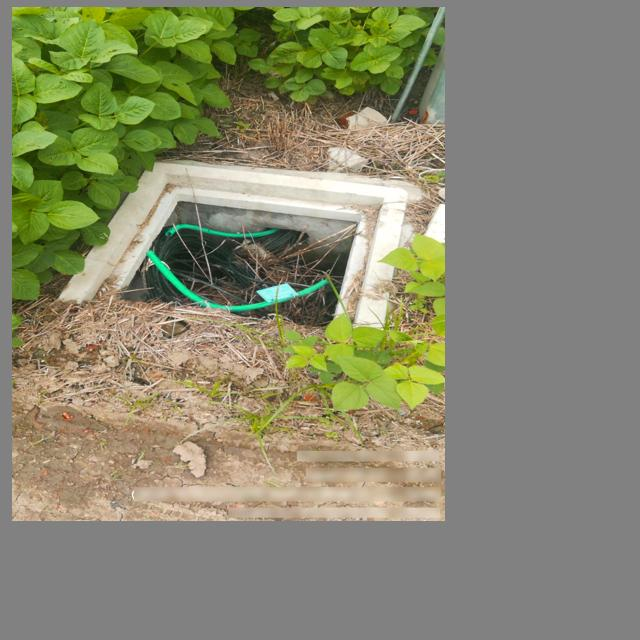lose: (49, 160, 413, 347)
